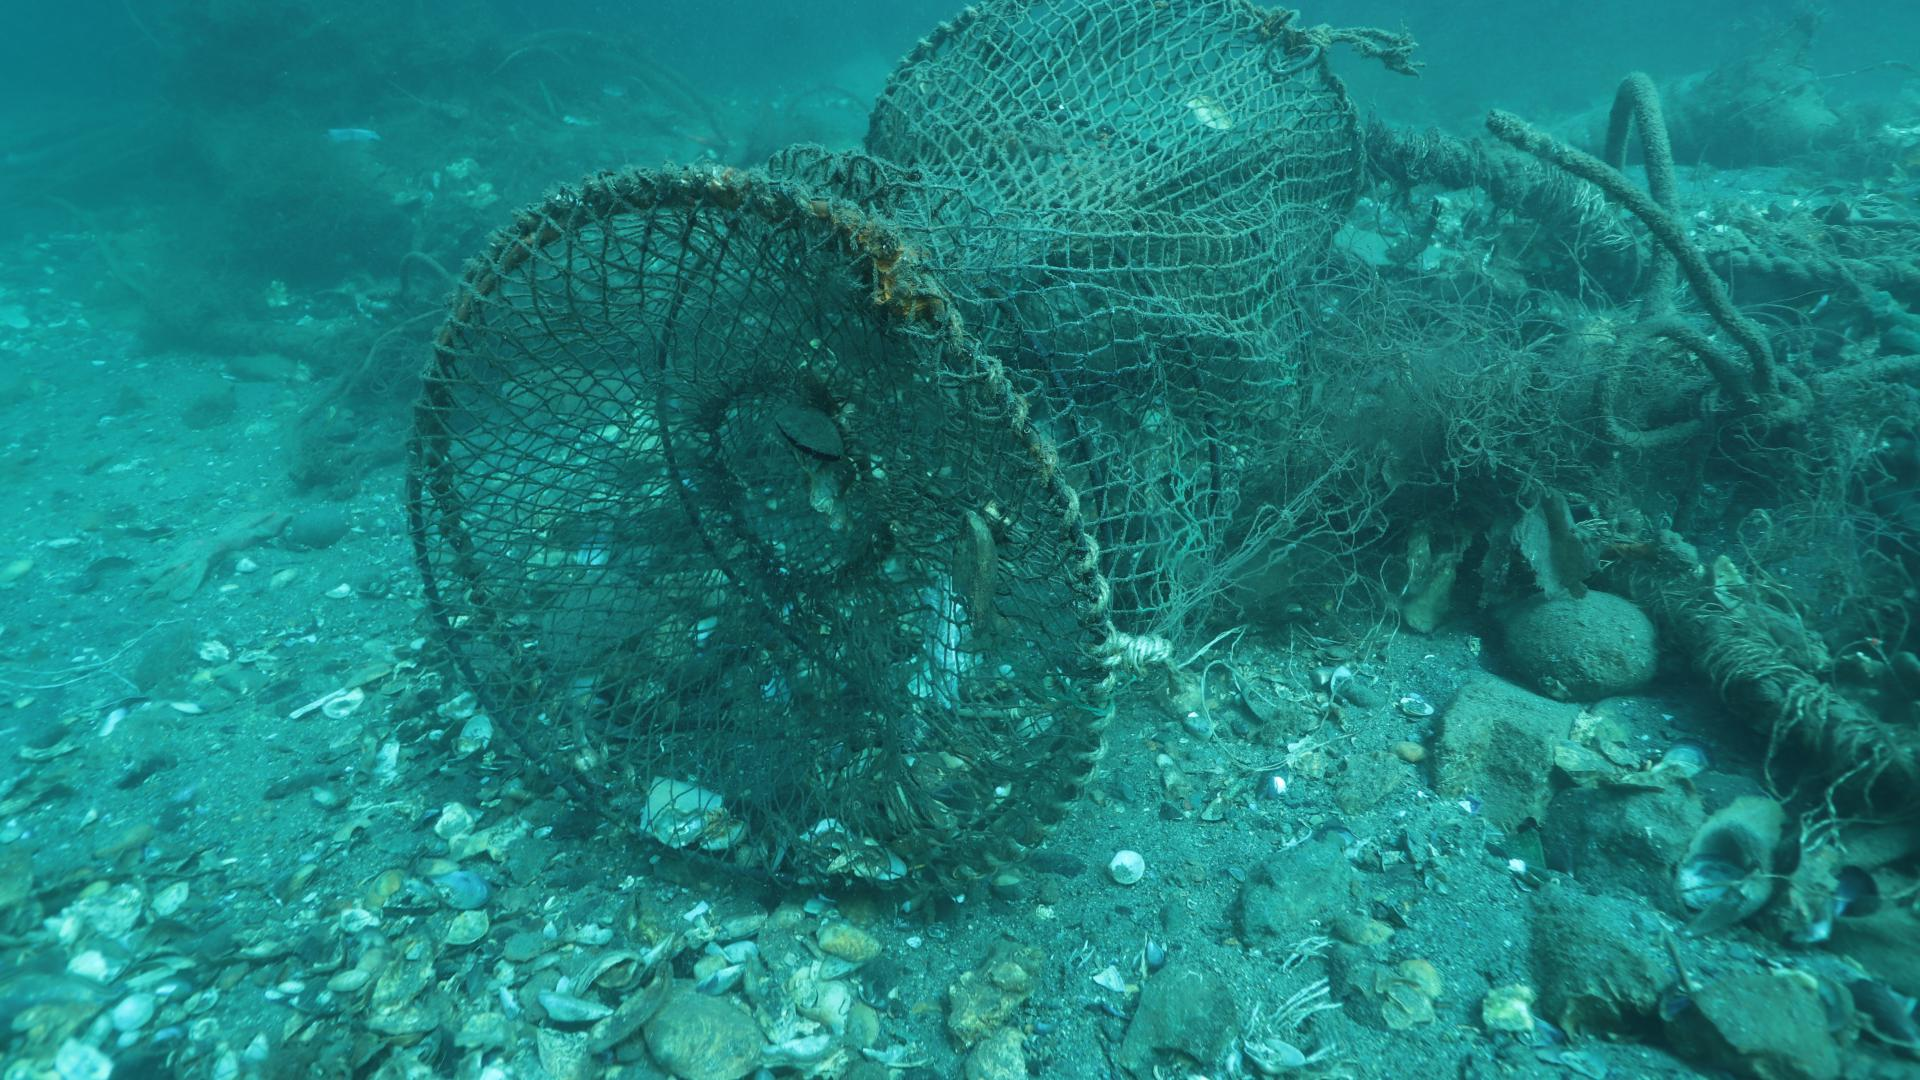bundle of ropes: (1304, 20, 1400, 59)
rope: (1710, 249, 1920, 285)
spring fish trap: (405, 0, 1367, 897)
